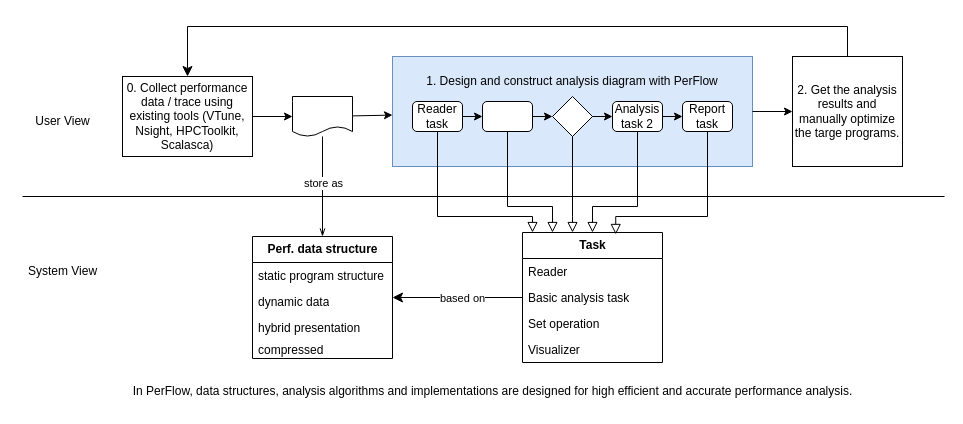
Some shapes in this 963 by 424 pixel diagram are drawn without their labels. Each missing label, with the centre of its shape:
"Analysis task 1" belongs at (507,116).
"Filter" belongs at (572,116).
"Perf. data Trace" belongs at (322,116).
